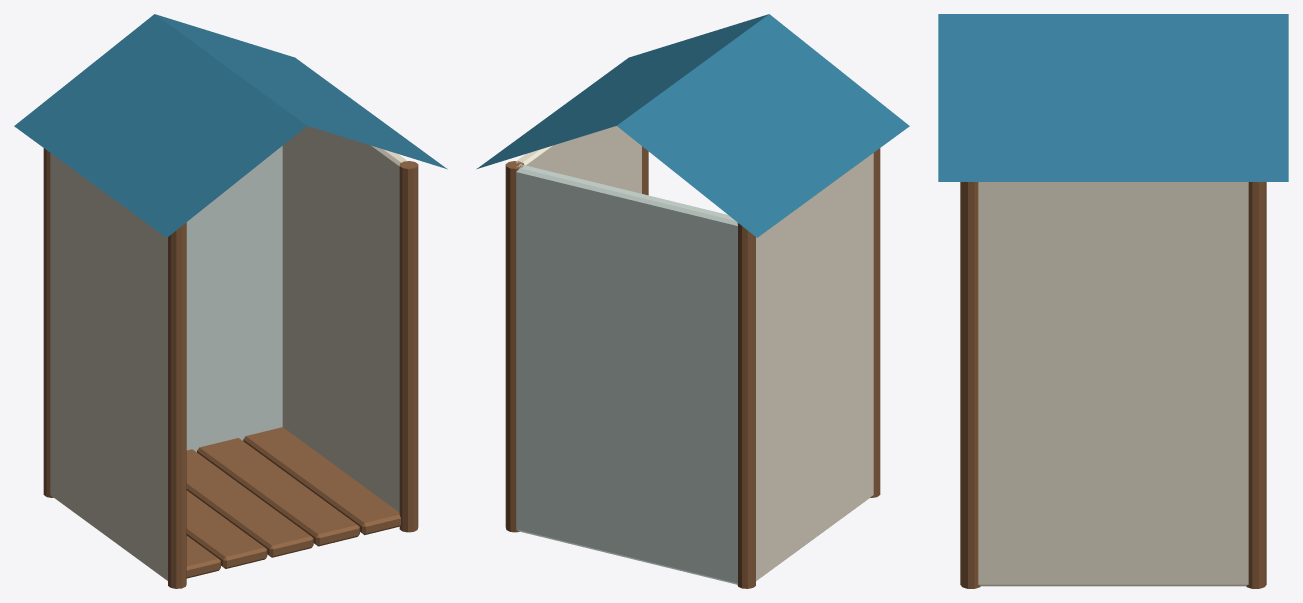
Rendered from Boat_House_A.glb.
3 views of the same model, side by side, from view 1: azimuth 30°, elevation 25°; view 2: azimuth 150°, elevation 25°; view 3: azimuth 270°, elevation 25° (orthographic). The views are drawn at different scales.
Parts seen in each view (by area): view 1: Boat_House_A; view 2: Boat_House_A; view 3: Boat_House_A.
Part boxes in pixels (box(x1,y1,x2,y2)): Boat_House_A: box(14, 14, 447, 588); Boat_House_A: box(476, 14, 909, 588); Boat_House_A: box(938, 14, 1288, 588).
Bounding box in the file's own units: 1.7 × 2.55 × 1.6.
